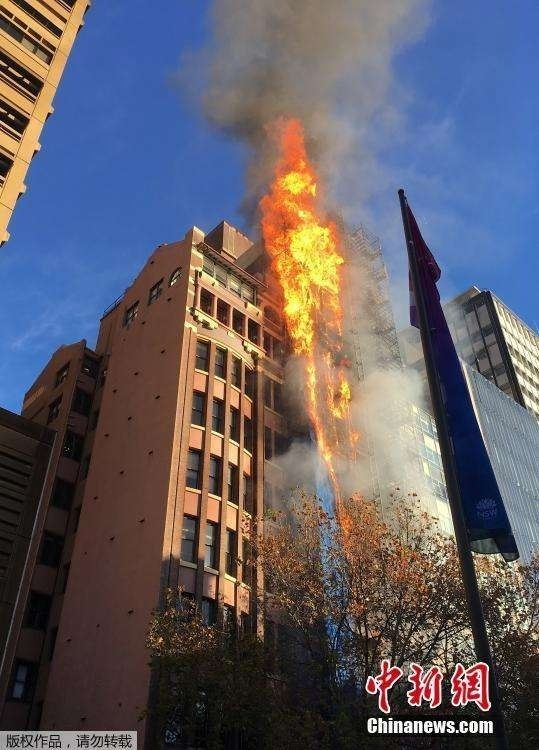fire: (224, 114, 360, 495)
